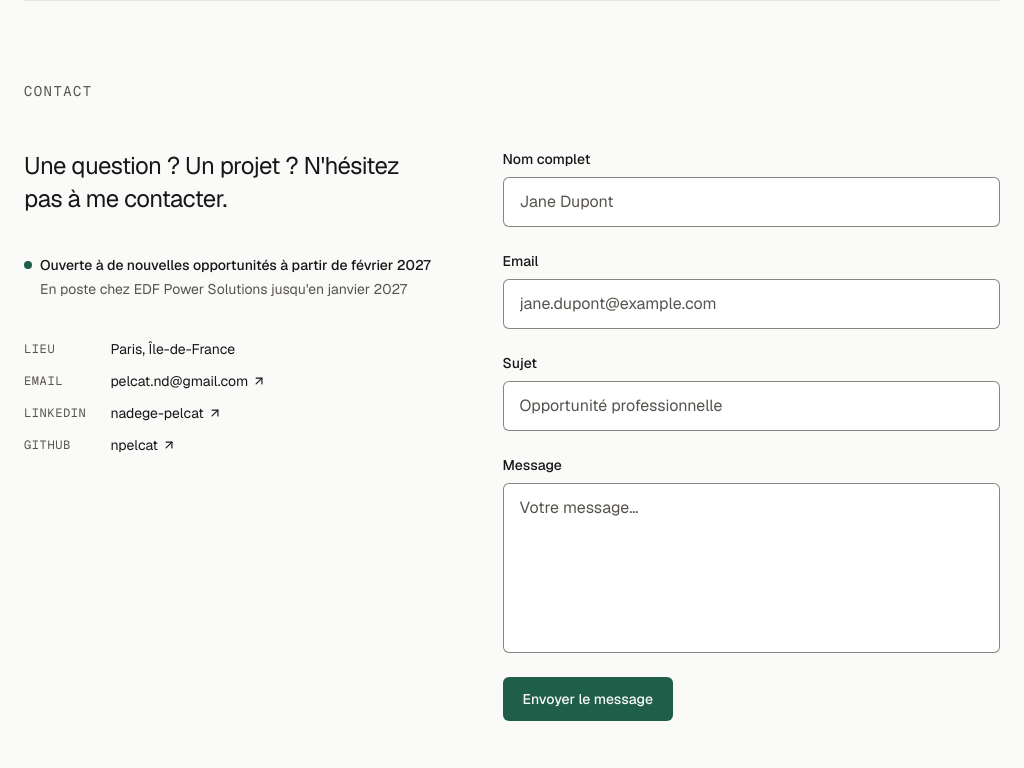
Test case: Contact › announces the success in the status area and shows the check
Step 1. Type "Jane" into the field labelled "Nom complet" → (751, 202), box 502,177 -> 1000,227
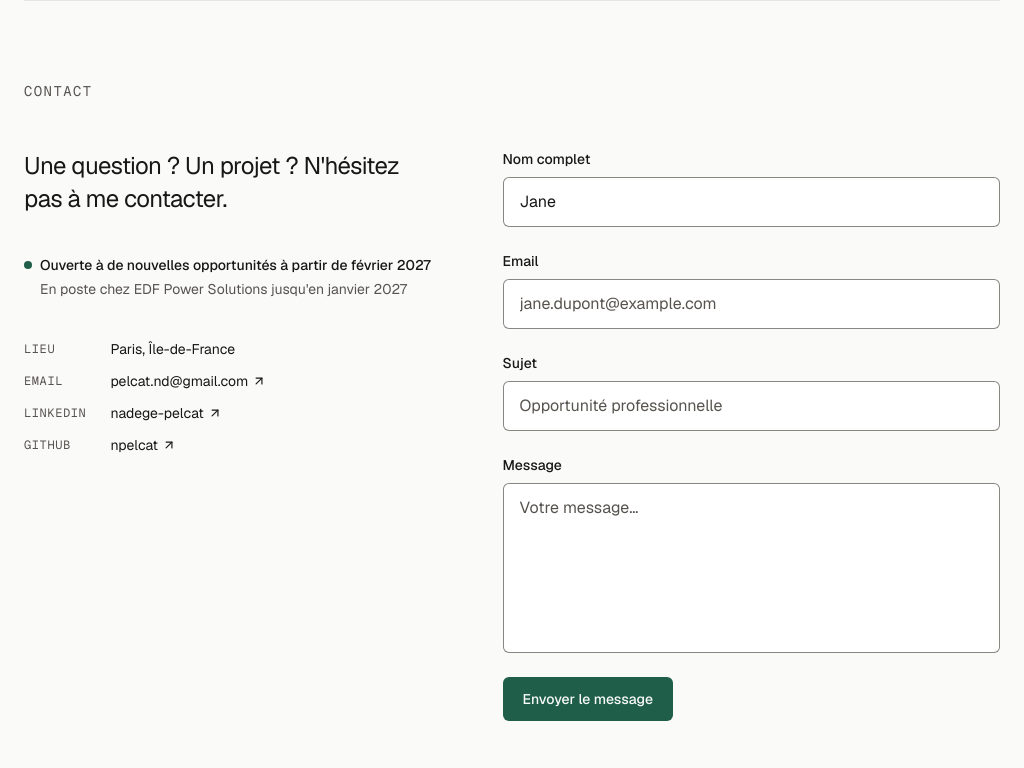
Step 2. Type "jane@example.com" into the field labelled "Email" → (751, 304), box 502,279 -> 1000,329
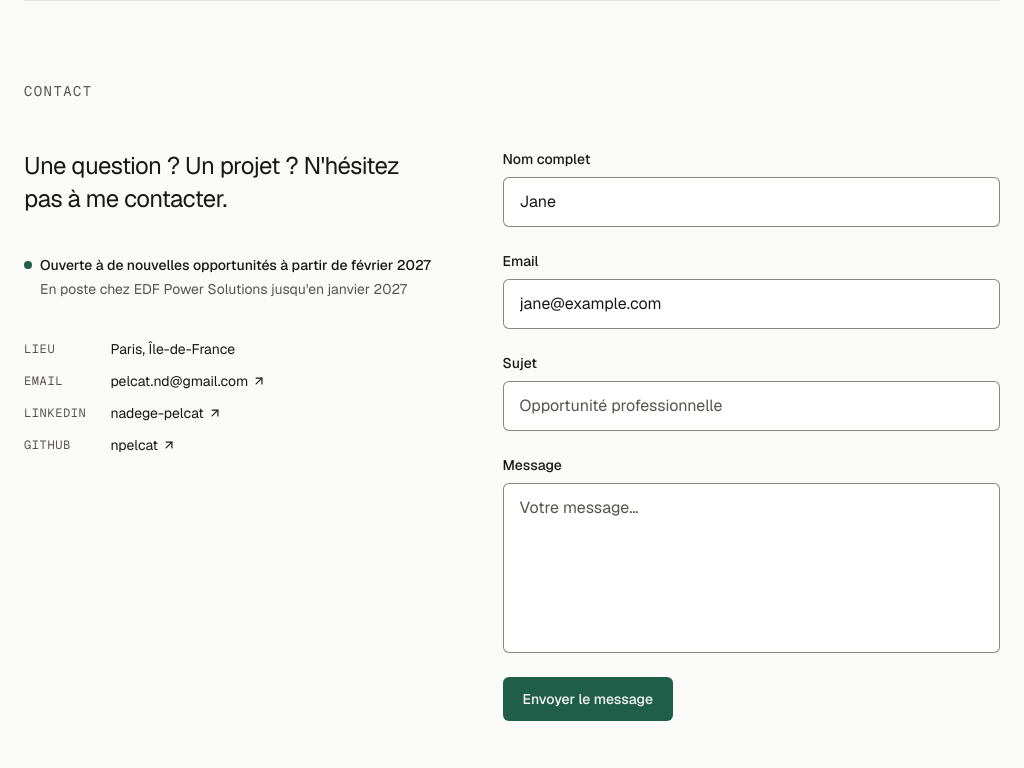
Step 3. Type "Bonjour" into the field labelled "Sujet" → (751, 406), box 502,381 -> 1000,431
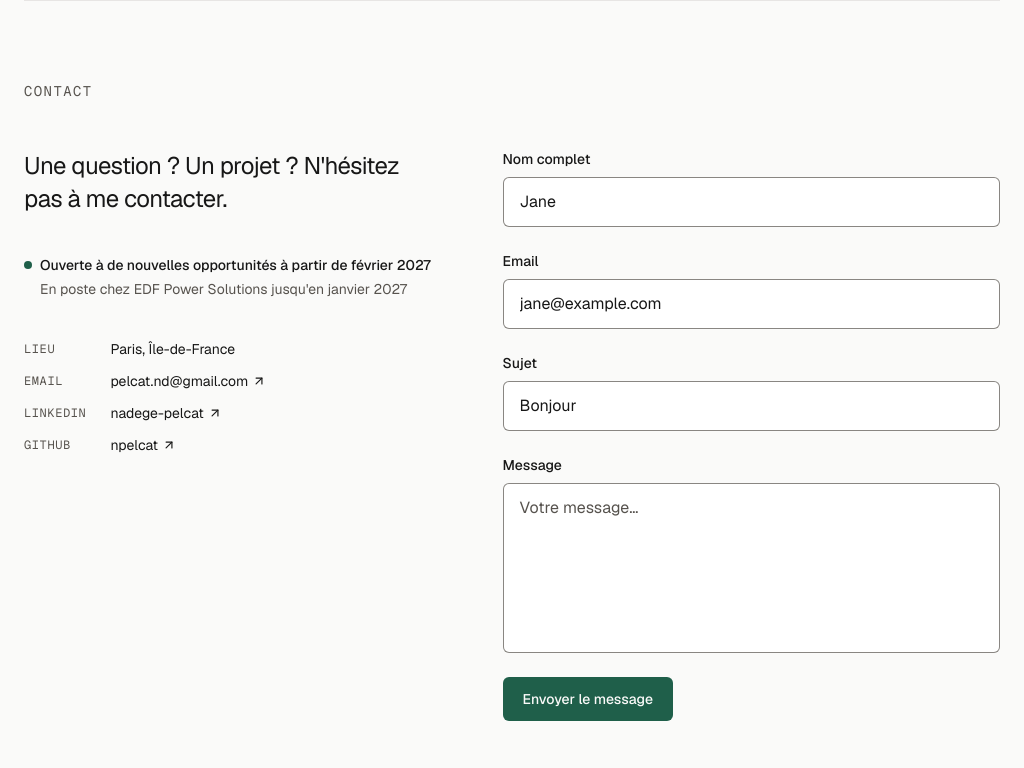
Step 4. Type "Un message" into the text box labelled "Message" → (751, 568), box 502,483 -> 1000,653
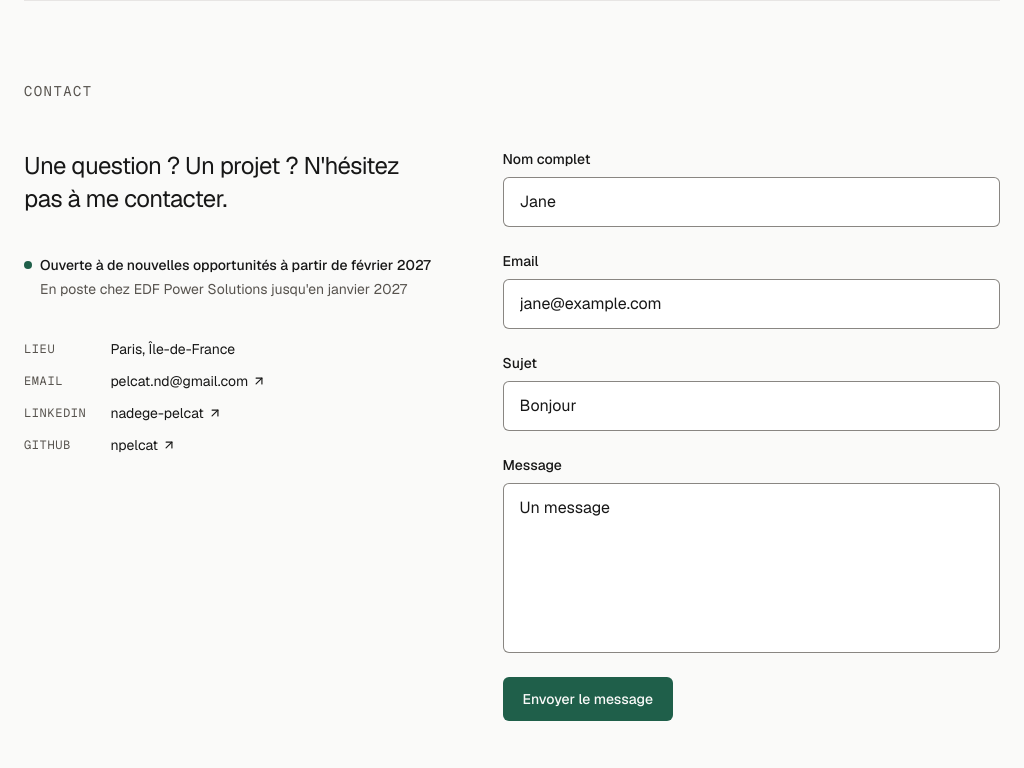
Step 5. Submit the form from the button "Envoyer le message", box 502,677 -> 673,721
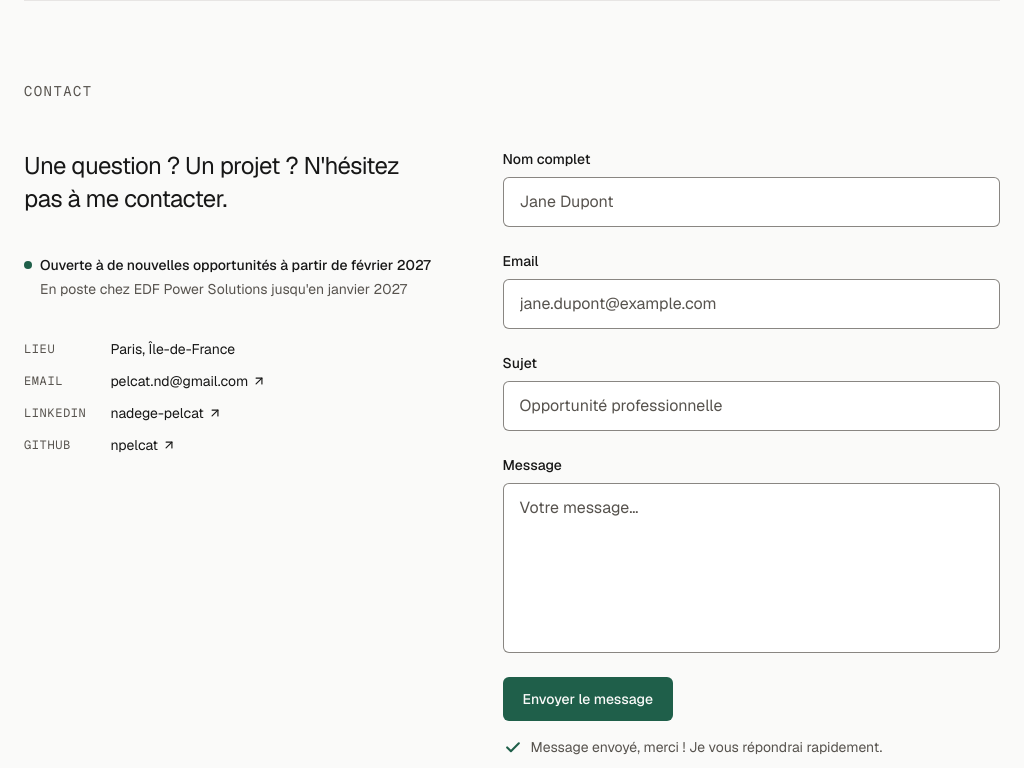
Check: the icon with test id "success-check" is shown, box 502,737 -> 522,757
